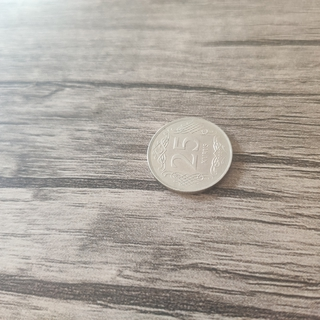25KURUS: (145, 114, 235, 194)
